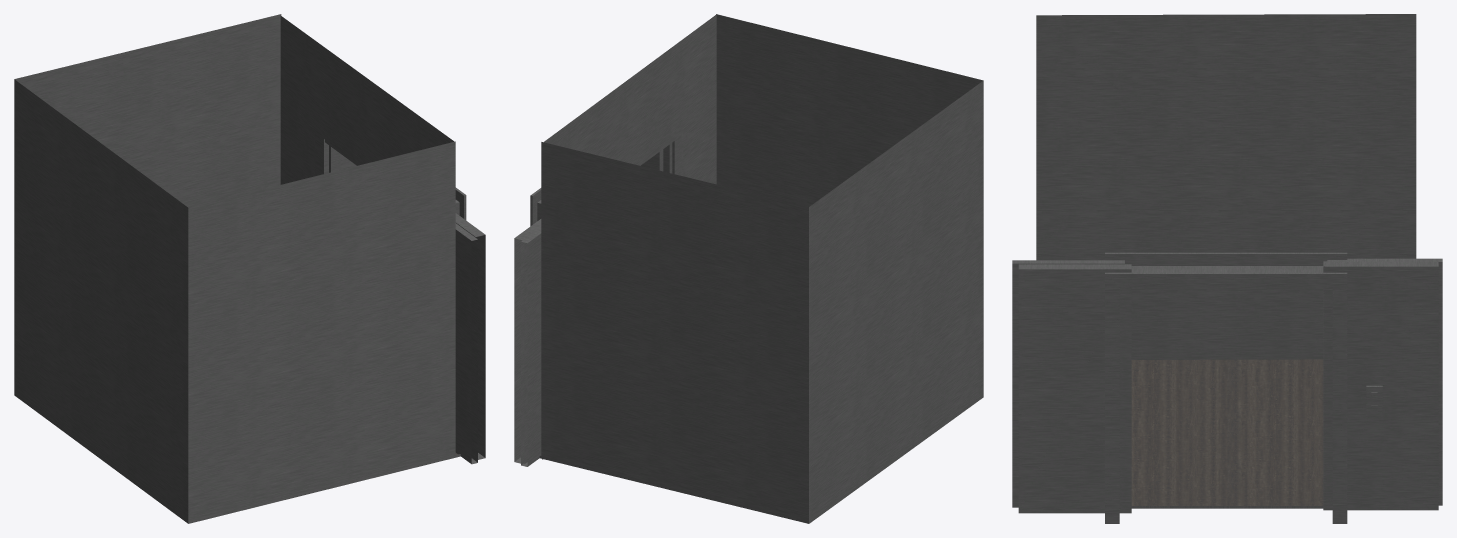
Rendered from SM_elevator_a_open.fbx.
3 renders of one model, left to right at view 1: azimuth 30°, elevation 25°; view 2: azimuth 150°, elevation 25°; view 3: azimuth 270°, elevation 25°, orthographic. The views are drawn at different scales.
Parts seen in each view (by area): view 1: polySurface851; view 2: polySurface851; view 3: polySurface851, polySurface849.
Boxes of the visible parts, x1,y1,x2,y2 form: polySurface851: (14,14,485,523); polySurface851: (514,14,983,523); polySurface851: (1012,14,1442,523); polySurface849: (1131,359,1323,505).
Size of the model in its own units: 4.11 by 4.02 by 4.53.
